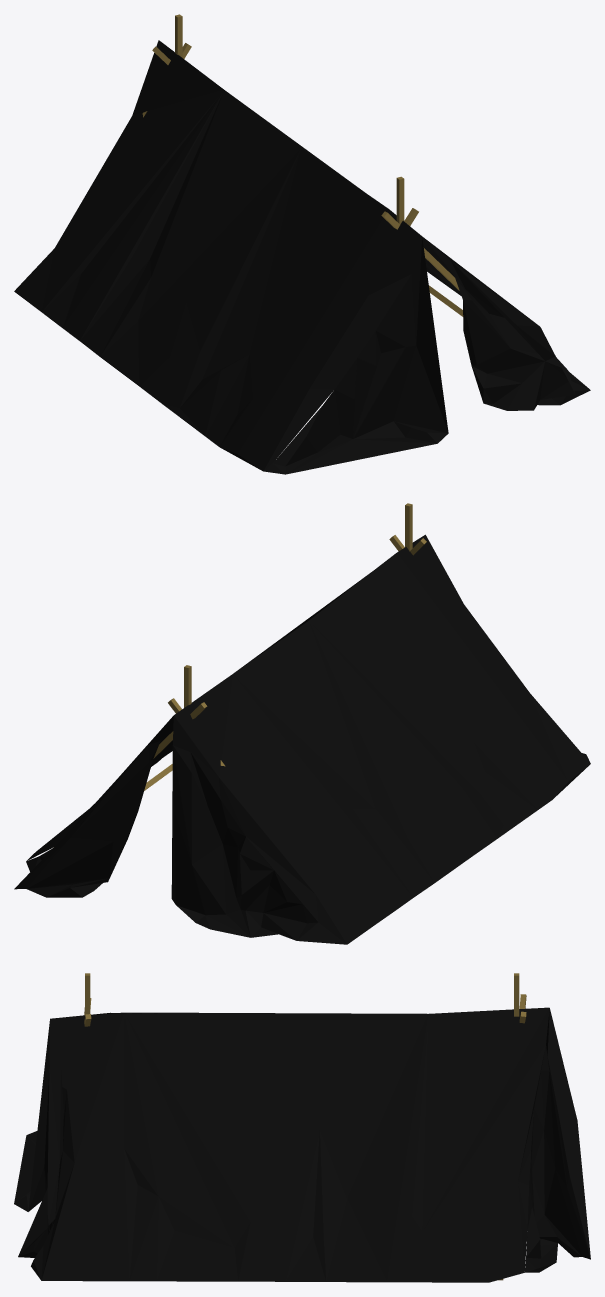
File: tent.FBX
3 renders of one model, top to bottom at view 1: azimuth 30°, elevation 25°; view 2: azimuth 150°, elevation 25°; view 3: azimuth 270°, elevation 25°, orthographic. The views are drawn at different scales.
Parts seen in each view (by area): view 1: campsite_t, Object001; view 2: campsite_t, Object001; view 3: campsite_t, Object001.
Boxes of the visible parts, <box> form: campsite_t: <box>14,40,590,474</box>; Object001: <box>142,14,463,316</box>; campsite_t: <box>14,534,590,944</box>; Object001: <box>53,503,426,847</box>; campsite_t: <box>14,1007,590,1282</box>; Object001: <box>84,973,526,1280</box>.
Size of the model in its own units: 81.39 by 57.26 by 127.
